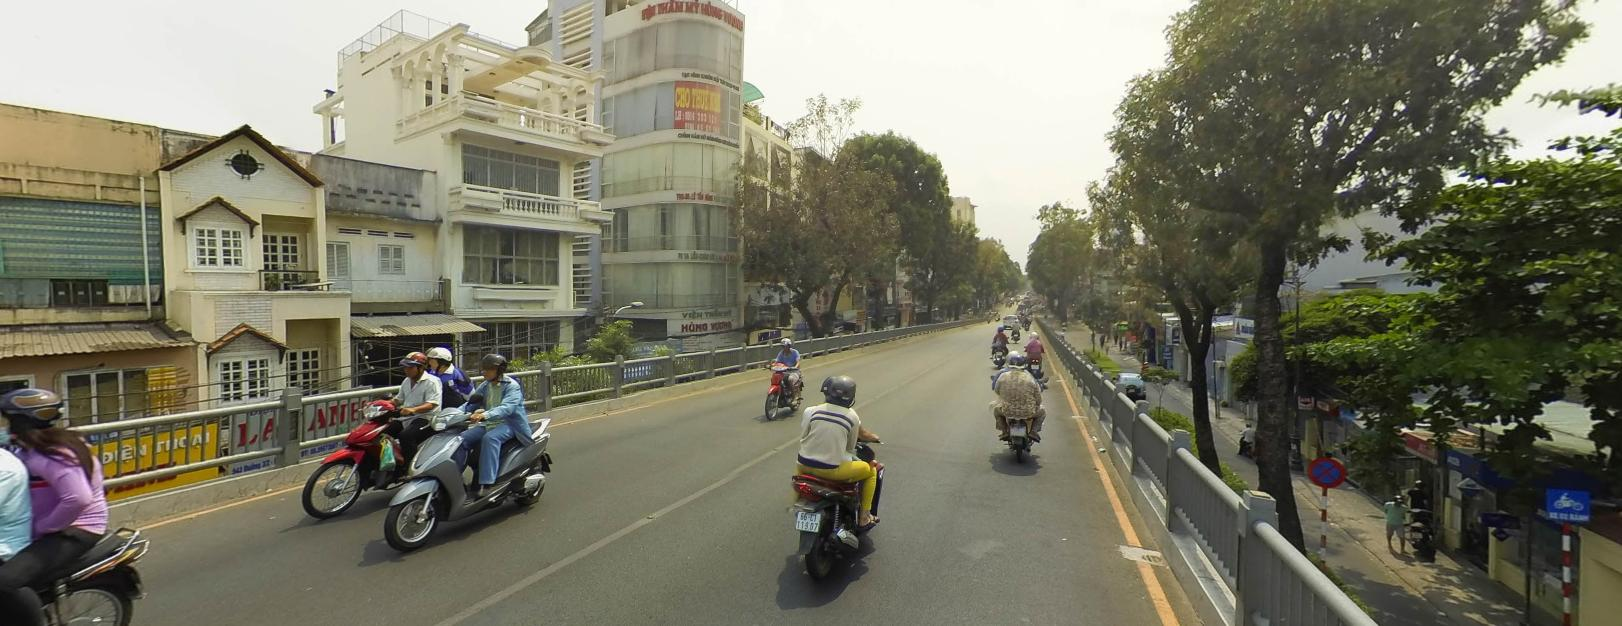Cam dung va do: (1306, 454, 1345, 487)
